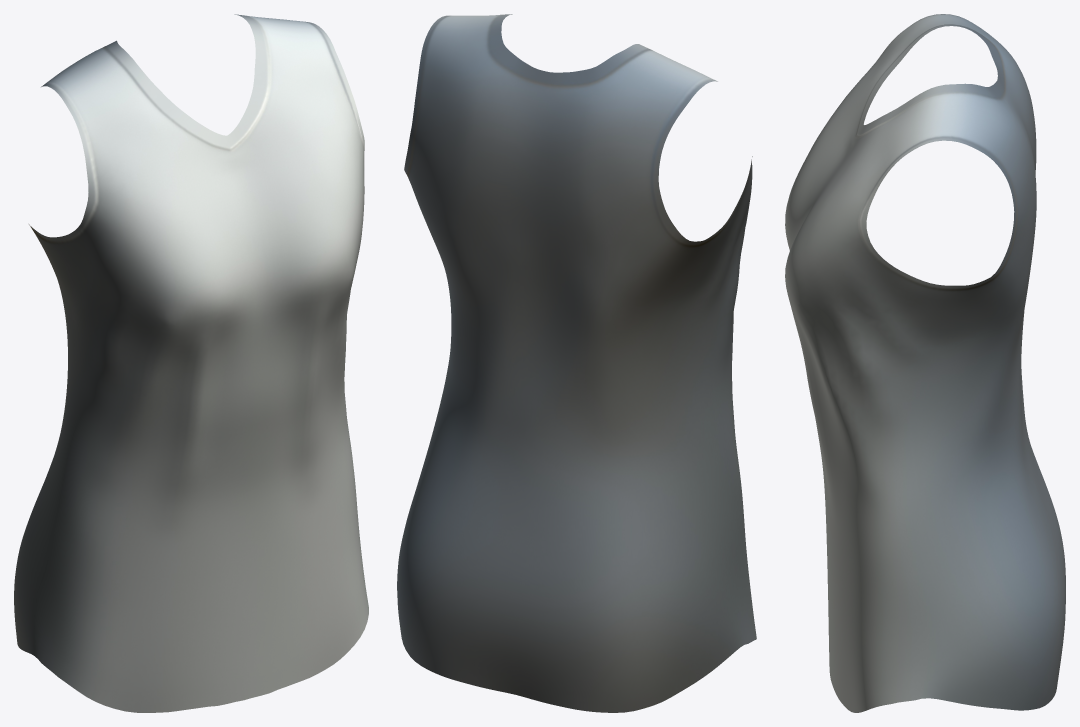
The model's file is sleeveless-jersey-without-sleeve.glb.
3 views of the same model, side by side, from view 1: azimuth 30°, elevation 25°; view 2: azimuth 150°, elevation 25°; view 3: azimuth 270°, elevation 25° (orthographic). The views are drawn at different scales.
Parts seen in each view (by area): view 1: 10013 - WOMENS SLEEVELESS; view 2: 10013 - WOMENS SLEEVELESS; view 3: 10013 - WOMENS SLEEVELESS.
Boxes of the visible parts, x1,y1,x2,y2 form: 10013 - WOMENS SLEEVELESS: [14, 14, 368, 712]; 10013 - WOMENS SLEEVELESS: [397, 14, 756, 712]; 10013 - WOMENS SLEEVELESS: [785, 14, 1065, 712].
Size of the model in its own units: 3.31 by 6.16 by 2.56.
6 materials, 6 textured.
